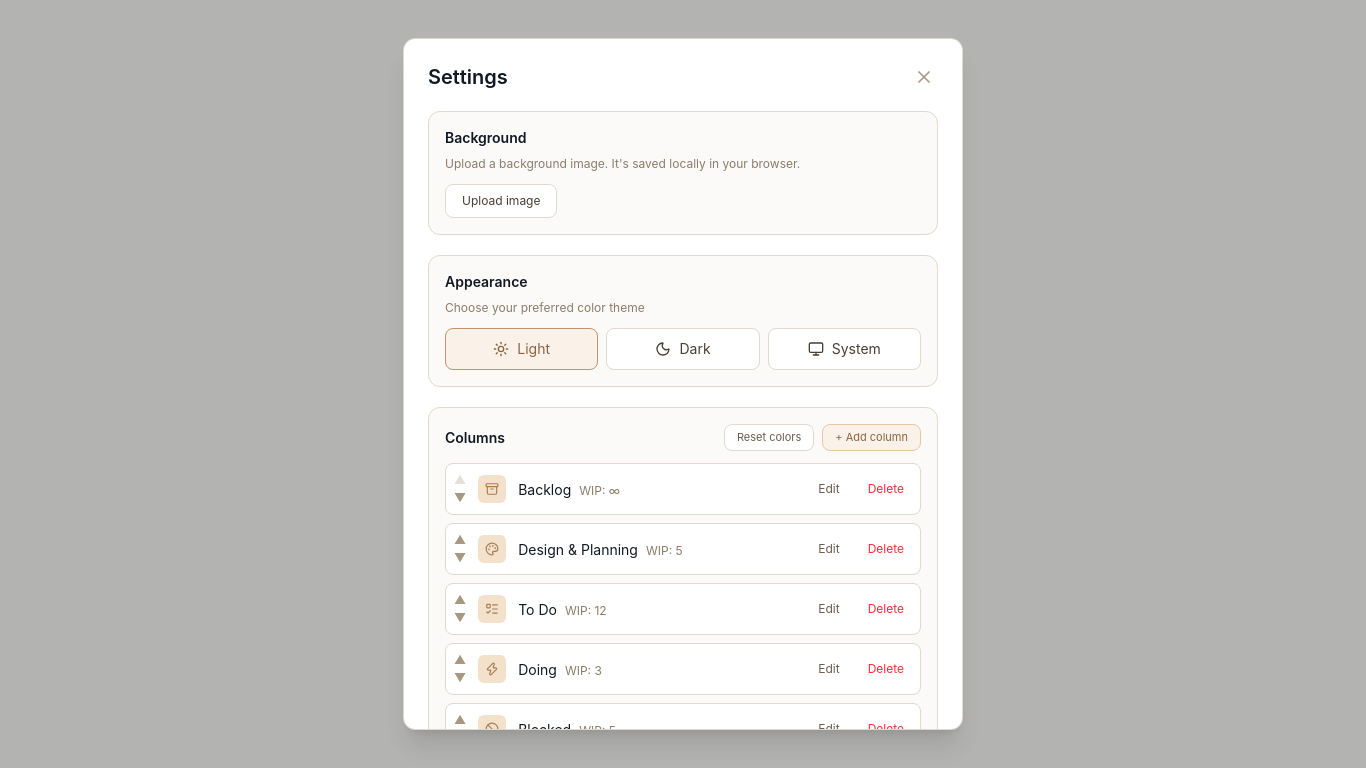
Test: SettingsPanel › columns management › opens add column modal when add is clicked
Click the button "+ Add column" at x=872, y=438, box [822,424,921,451]
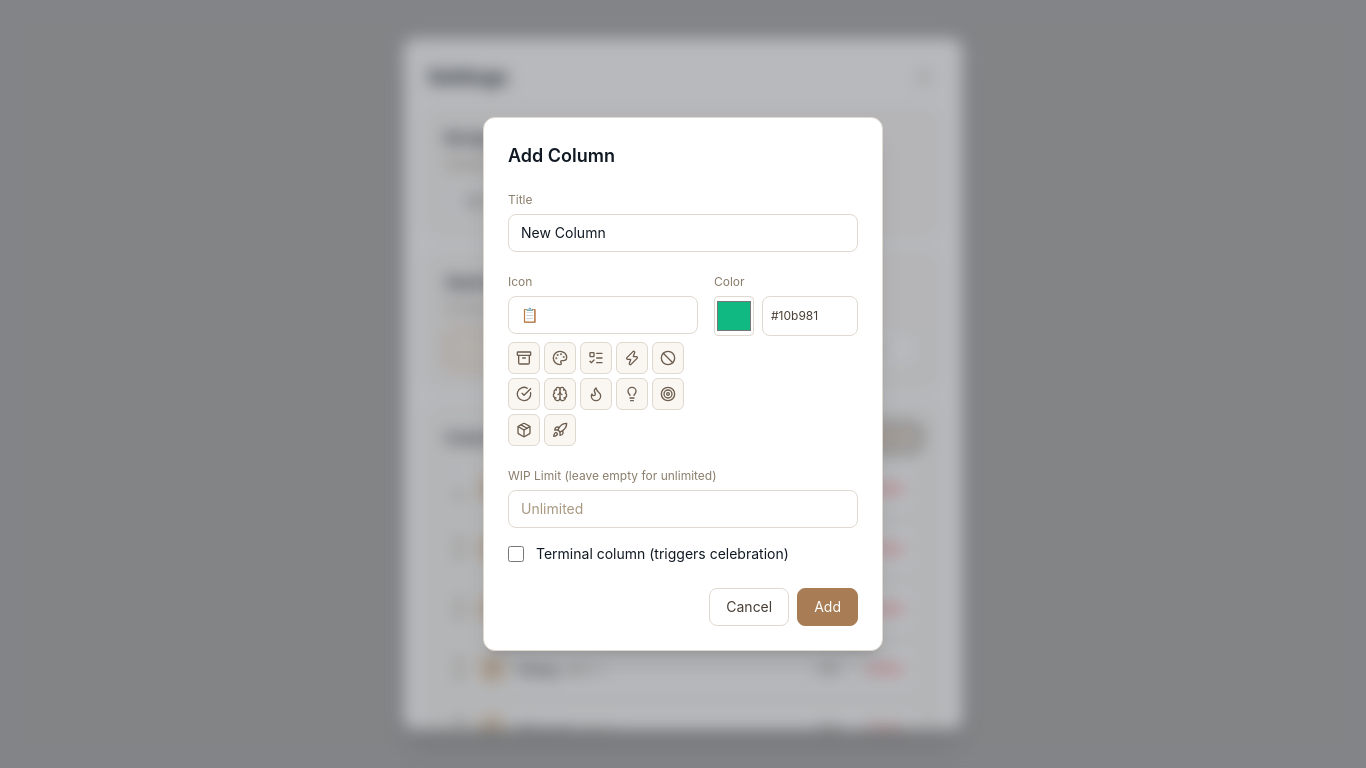
Now the text "Add Column" is shown, box [508,145,615,166]
